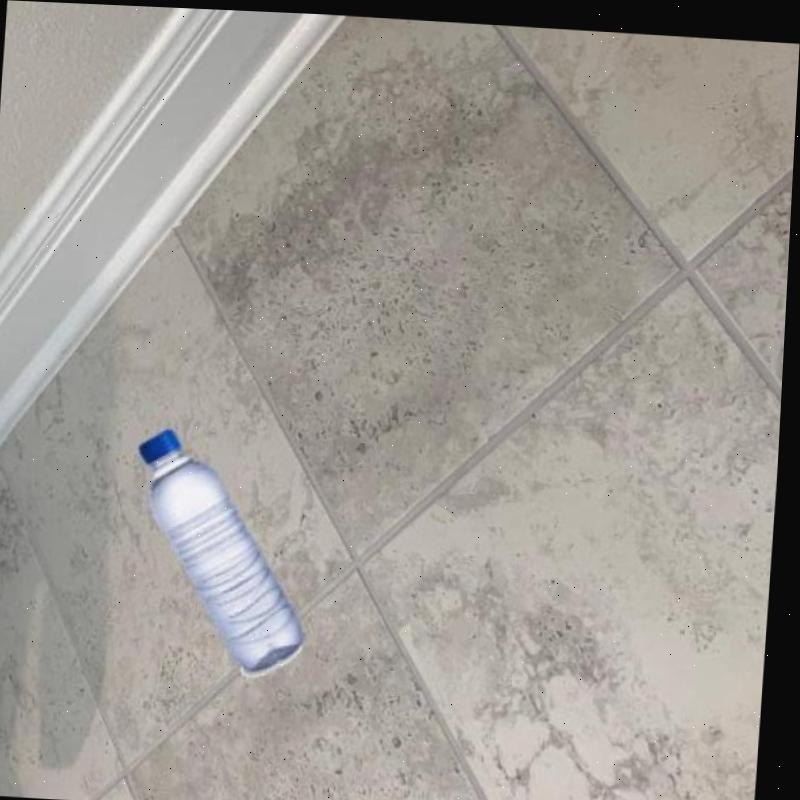botella: (127, 425, 322, 672)
